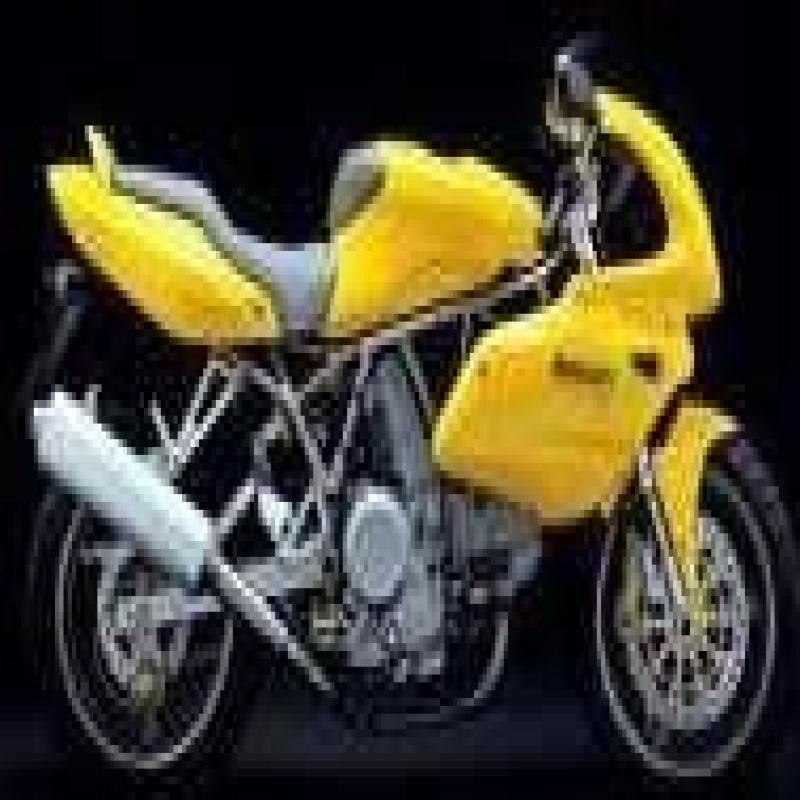bike: (19, 38, 797, 800)
